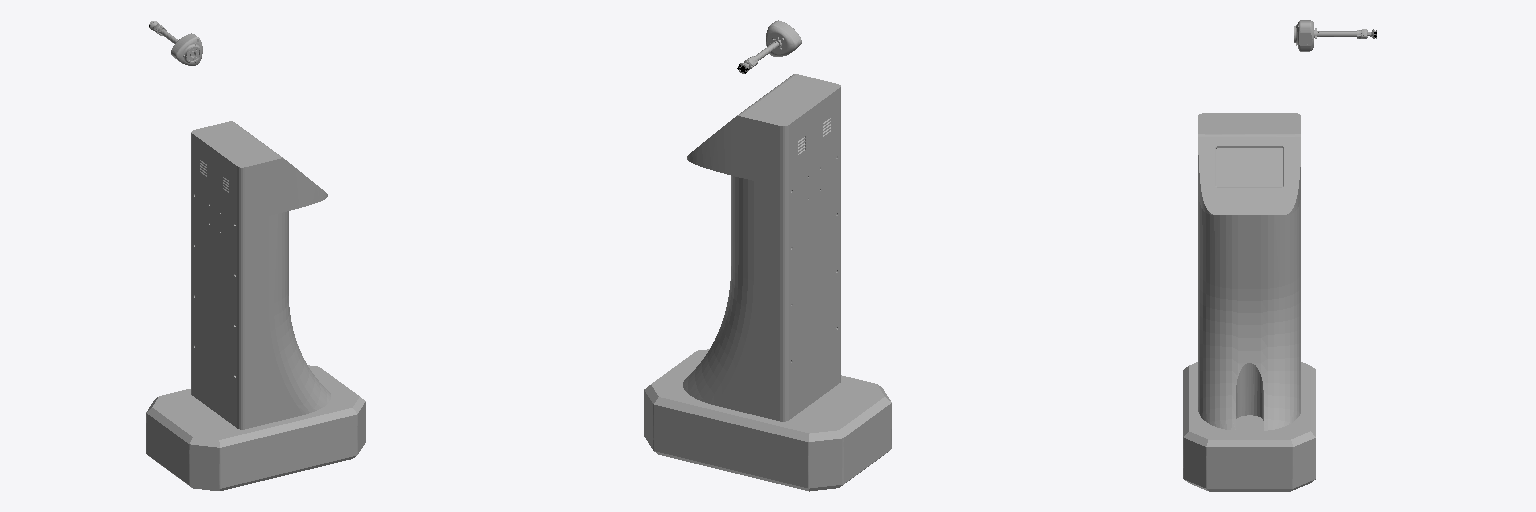
--- What the picture shows (computed from the rendered views, not written in the file) ---
The picture shows the robot from 3 angles, left to right: view 1: azimuth 30°, elevation 25°; view 2: azimuth 150°, elevation 25°; view 3: azimuth 270°, elevation 25°; orthographic projection.
Robot: shobot — 32 links, 31 joints (18 revolute, 13 fixed); root link world; default pose: all joints at 0.
Visible links, largest first — view 1: Top_Body_1, amr_link, gripper_link; view 2: Top_Body_1, amr_link, gripper_link; view 3: Top_Body_1, amr_link, gripper_link.
Boxes of the visible links, x1,y1,x2,y2 form: Top_Body_1: (191, 121, 330, 429); amr_link: (146, 365, 365, 490); gripper_link: (149, 21, 202, 65); Top_Body_1: (683, 74, 840, 421); amr_link: (644, 349, 891, 491); gripper_link: (738, 20, 801, 73); Top_Body_1: (1198, 113, 1300, 430); amr_link: (1183, 362, 1315, 491); gripper_link: (1294, 20, 1376, 51).
Bounding box of the posed robot: 0.9 × 0.8435 × 2.02 m (x, y, z).
Meshes: 15 distinct files referenced, 7 mesh visuals loaded (7 binary STL); not drawn: 8 (reference not matched to a file when rendering).

URDF robot description (shobot):
<?xml version="1.0" ?>
<!-- =================================================================================== -->
<!-- |    This document was autogenerated by xacro from [local-path]/sim_ws/src/urdF_description/urdf/shobot.xacro | -->
<!-- |    EDITING THIS FILE BY HAND IS NOT RECOMMENDED                                 | -->
<!-- =================================================================================== -->
<robot name="shobot">
    <!--
    Base UR robot series xacro macro.

    NOTE: this is NOT a URDF. It cannot directly be loaded by consumers
    expecting a flattened '.urdf' file. See the top-level '.xacro' for that
    (but note: that .xacro must still be processed by the xacro command).

    For use in '.launch' files: use one of the 'load_urX.launch' convenience
    launch files.

    This file models the base kinematic chain of a UR robot, which then gets
    parameterised by various configuration files to convert it into a UR3(e),
    UR5(e), UR10(e) or UR16e.

    NOTE: the default kinematic parameters (ie: link lengths, frame locations,
    offets, etc) do not correspond to any particular robot. They are defaults
    only. There WILL be non-zero offsets between the Forward Kinematics results
    in TF (ie: robot_state_publisher) and the values reported by the Teach
    Pendant.

    For accurate (and robot-specific) transforms, the 'kinematics_parameters_file'
    parameter MUST point to a .yaml file containing the appropriate values for
    the targetted robot.

    If using the UniversalRobots/Universal_Robots_ROS_Driver, follow the steps
    described in the readme of that repository to extract the kinematic
    calibration from the controller and generate the required .yaml file.

    Main author of the migration to yaml configs: Ludovic Delval.

    Contributors to previous versions (in no particular order):

     - Felix Messmer
     - Kelsey Hawkins
     - Wim Meeussen
     - Shaun Edwards
     - Nadia Hammoudeh Garcia
     - Dave Hershberger
     - G. vd. Hoorn
     - Philip Long
     - Dave Coleman
     - Miguel Prada
     - Mathias Luedtke
     - Marcel Schnirring
     - Felix von Drigalski
     - Felix Exner
     - Jimmy Da Silva
     - Ajit Krisshna N L
     - Muhammad Asif Rana
  -->
    <!--
    NOTE: the macro defined in this file is NOT part of the public API of this
          package. Users CANNOT rely on this file being available, or stored in
          this location. Nor can they rely on the existence of the macro.
  -->
    <transmission name="shoulder_pan_trans">
        <type>transmission_interface/SimpleTransmission</type>
        <joint name="shoulder_pan_joint">
            <hardwareInterface>hardware_interface/EffortJointInterface</hardwareInterface>
        </joint>
        <actuator name="shoulder_pan_motor">
            <mechanicalReduction>1</mechanicalReduction>
            <hardwareInterface>hardware_interface/EffortJointInterface</hardwareInterface>
        </actuator>
    </transmission>
    <transmission name="shoulder_lift_trans">
        <type>transmission_interface/SimpleTransmission</type>
        <joint name="shoulder_lift_joint">
            <hardwareInterface>hardware_interface/EffortJointInterface</hardwareInterface>
        </joint>
        <actuator name="shoulder_lift_motor">
            <mechanicalReduction>1</mechanicalReduction>
            <hardwareInterface>hardware_interface/EffortJointInterface</hardwareInterface>
        </actuator>
    </transmission>
    <transmission name="elbow_trans">
        <type>transmission_interface/SimpleTransmission</type>
        <joint name="elbow_joint">
            <hardwareInterface>hardware_interface/EffortJointInterface</hardwareInterface>
        </joint>
        <actuator name="elbow_motor">
            <mechanicalReduction>1</mechanicalReduction>
            <hardwareInterface>hardware_interface/EffortJointInterface</hardwareInterface>
        </actuator>
    </transmission>
    <transmission name="wrist_1_trans">
        <type>transmission_interface/SimpleTransmission</type>
        <joint name="wrist_1_joint">
            <hardwareInterface>hardware_interface/EffortJointInterface</hardwareInterface>
        </joint>
        <actuator name="wrist_1_motor">
            <mechanicalReduction>1</mechanicalReduction>
            <hardwareInterface>hardware_interface/EffortJointInterface</hardwareInterface>
        </actuator>
    </transmission>
    <transmission name="wrist_2_trans">
        <type>transmission_interface/SimpleTransmission</type>
        <joint name="wrist_2_joint">
            <hardwareInterface>hardware_interface/EffortJointInterface</hardwareInterface>
        </joint>
        <actuator name="wrist_2_motor">
            <mechanicalReduction>1</mechanicalReduction>
            <hardwareInterface>hardware_interface/EffortJointInterface</hardwareInterface>
        </actuator>
    </transmission>
    <transmission name="wrist_3_trans">
        <type>transmission_interface/SimpleTransmission</type>
        <joint name="wrist_3_joint">
            <hardwareInterface>hardware_interface/EffortJointInterface</hardwareInterface>
        </joint>
        <actuator name="wrist_3_motor">
            <mechanicalReduction>1</mechanicalReduction>
            <hardwareInterface>hardware_interface/EffortJointInterface</hardwareInterface>
        </actuator>
    </transmission>
    <!-- links: main serial chain -->
    <link name="base_link" />
    <link name="base_link_inertia">
        <visual>
            <origin rpy="0 0 3.141592653589793" xyz="0 0 0" />
            <geometry>
                <mesh filename="package://ur_description/meshes/ur5/visual/base.dae" />
            </geometry>
            <material name="LightGrey">
                <color rgba="0.7 0.7 0.7 1.0" />
            </material>
        </visual>
        <collision>
            <origin rpy="0 0 3.141592653589793" xyz="0 0 0" />
            <geometry>
                <mesh filename="package://ur_description/meshes/ur5/collision/base.stl" />
            </geometry>
        </collision>
        <inertial>
            <mass value="4.0" />
            <origin rpy="0 0 0" xyz="0 0 0" />
            <inertia ixx="0.00443333156" ixy="0.0" ixz="0.0" iyy="0.00443333156" iyz="0.0" izz="0.0072" />
        </inertial>
    </link>
    <link name="shoulder_link">
        <visual>
            <origin rpy="0 0 3.141592653589793" xyz="0 0 0" />
            <geometry>
                <mesh filename="package://ur_description/meshes/ur5/visual/shoulder.dae" />
            </geometry>
            <material name="LightGrey">
                <color rgba="0.7 0.7 0.7 1.0" />
            </material>
        </visual>
        <collision>
            <origin rpy="0 0 3.141592653589793" xyz="0 0 0" />
            <geometry>
                <mesh filename="package://ur_description/meshes/ur5/collision/shoulder.stl" />
            </geometry>
        </collision>
        <inertial>
            <mass value="3.7" />
            <origin rpy="0 0 0" xyz="0 0 0" />
            <inertia ixx="0.014972352344389999" ixy="0.0" ixz="0.0" iyy="0.014972352344389999" iyz="0.0" izz="0.01040625" />
        </inertial>
    </link>
    <link name="upper_arm_link">
        <visual>
            <origin rpy="1.5707963267948966 0 -1.5707963267948966" xyz="0 0 0.13585" />
            <geometry>
                <mesh filename="package://ur_description/meshes/ur5/visual/upperarm.dae" />
            </geometry>
            <material name="LightGrey">
                <color rgba="0.7 0.7 0.7 1.0" />
            </material>
        </visual>
        <collision>
            <origin rpy="1.5707963267948966 0 -1.5707963267948966" xyz="0 0 0.13585" />
            <geometry>
                <mesh filename="package://ur_description/meshes/ur5/collision/upperarm.stl" />
            </geometry>
        </collision>
        <inertial>
            <mass value="8.393" />
            <origin rpy="0 1.5707963267948966 0" xyz="-0.2125 0.0 0.136" />
            <inertia ixx="0.1338857818623325" ixy="0.0" ixz="0.0" iyy="0.1338857818623325" iyz="0.0" izz="0.0151074" />
        </inertial>
    </link>
    <link name="forearm_link">
        <visual>
            <origin rpy="1.5707963267948966 0 -1.5707963267948966" xyz="0 0 0.0165" />
            <geometry>
                <mesh filename="package://ur_description/meshes/ur5/visual/forearm.dae" />
            </geometry>
            <material name="LightGrey">
                <color rgba="0.7 0.7 0.7 1.0" />
            </material>
        </visual>
        <collision>
            <origin rpy="1.5707963267948966 0 -1.5707963267948966" xyz="0 0 0.0165" />
            <geometry>
                <mesh filename="package://ur_description/meshes/ur5/collision/forearm.stl" />
            </geometry>
        </collision>
        <inertial>
            <mass value="2.275" />
            <origin rpy="0 1.5707963267948966 0" xyz="-0.196125 0.0 0.0165" />
            <inertia ixx="0.03121679102890359" ixy="0.0" ixz="0.0" iyy="0.03121679102890359" iyz="0.0" izz="0.004095" />
        </inertial>
    </link>
    <link name="wrist_1_link">
        <visual>
            <!-- TODO: Move this to a parameter -->
            <origin rpy="1.5707963267948966 0 0" xyz="0 0 -0.093" />
            <geometry>
                <mesh filename="package://ur_description/meshes/ur5/visual/wrist1.dae" />
            </geometry>
            <material name="LightGrey">
                <color rgba="0.7 0.7 0.7 1.0" />
            </material>
        </visual>
        <collision>
            <origin rpy="1.5707963267948966 0 0" xyz="0 0 -0.093" />
            <geometry>
                <mesh filename="package://ur_description/meshes/ur5/collision/wrist1.stl" />
            </geometry>
        </collision>
        <inertial>
            <mass value="1.219" />
            <origin rpy="0 0 0" xyz="0 0 0" />
            <inertia ixx="0.0020138887777775" ixy="0.0" ixz="0.0" iyy="0.0020138887777775" iyz="0.0" izz="0.0021942" />
        </inertial>
    </link>
    <link name="wrist_2_link">
        <visual>
            <origin rpy="0 0 0" xyz="0 0 -0.095" />
            <geometry>
                <mesh filename="package://ur_description/meshes/ur5/visual/wrist2.dae" />
            </geometry>
            <material name="LightGrey">
                <color rgba="0.7 0.7 0.7 1.0" />
            </material>
        </visual>
        <collision>
            <origin rpy="0 0 0" xyz="0 0 -0.095" />
            <geometry>
                <mesh filename="package://ur_description/meshes/ur5/collision/wrist2.stl" />
            </geometry>
        </collision>
        <inertial>
            <mass value="1.219" />
            <origin rpy="0 0 0" xyz="0 0 0" />
            <inertia ixx="0.0018310388509175" ixy="0.0" ixz="0.0" iyy="0.0018310388509175" iyz="0.0" izz="0.0021942" />
        </inertial>
    </link>
    <link name="wrist_3_link">
        <visual>
            <origin rpy="1.5707963267948966 0 0" xyz="0 0 -0.0818" />
            <geometry>
                <mesh filename="package://ur_description/meshes/ur5/visual/wrist3.dae" />
            </geometry>
            <material name="LightGrey">
                <color rgba="0.7 0.7 0.7 1.0" />
            </material>
        </visual>
        <collision>
            <origin rpy="1.5707963267948966 0 0" xyz="0 0 -0.0818" />
            <geometry>
                <mesh filename="package://ur_description/meshes/ur5/collision/wrist3.stl" />
            </geometry>
        </collision>
        <inertial>
            <mass value="0.1879" />
            <origin rpy="0 0 0" xyz="0.0 0.0 -0.01525" />
            <inertia ixx="8.062472608343e-05" ixy="0.0" ixz="0.0" iyy="8.062472608343e-05" iyz="0.0" izz="0.0001321171875" />
        </inertial>
    </link>
    <!-- joints: main serial chain -->
    <joint name="base_link-base_link_inertia" type="fixed">
        <parent link="base_link" />
        <child link="base_link_inertia" />
        <!-- 'base_link' is REP-103 aligned (so X+ forward), while the internal
           frames of the robot/controller have X+ pointing backwards.
           Use the joint between 'base_link' and 'base_link_inertia' (a dummy
           link/frame) to introduce the necessary rotation over Z (of pi rad).
      -->
        <origin rpy="0 0 3.141592653589793" xyz="0 0 0" />
    </joint>
    <joint name="shoulder_pan_joint" type="revolute">
        <parent link="base_link_inertia" />
        <child link="shoulder_link" />
        <origin rpy="0 0 0" xyz="0 0 0.089159" />
        <axis xyz="0 0 1" />
        <limit effort="150.0" lower="-6.283185307179586" upper="6.283185307179586" velocity="3.141592653589793" />
        <dynamics damping="0" friction="0" />
    </joint>
    <joint name="shoulder_lift_joint" type="revolute">
        <parent link="shoulder_link" />
        <child link="upper_arm_link" />
        <origin rpy="1.570796327 0 0" xyz="0 0 0" />
        <axis xyz="0 0 1" />
        <limit effort="150.0" lower="-6.283185307179586" upper="6.283185307179586" velocity="3.141592653589793" />
        <dynamics damping="0" friction="0" />
    </joint>
    <joint name="elbow_joint" type="revolute">
        <parent link="upper_arm_link" />
        <child link="forearm_link" />
        <origin rpy="0 0 0" xyz="-0.425 0 0" />
        <axis xyz="0 0 1" />
        <limit effort="150.0" lower="-3.141592653589793" upper="3.141592653589793" velocity="3.141592653589793" />
        <dynamics damping="0" friction="0" />
    </joint>
    <joint name="wrist_1_joint" type="revolute">
        <parent link="forearm_link" />
        <child link="wrist_1_link" />
        <origin rpy="0 0 0" xyz="-0.39225 0 0.10915" />
        <axis xyz="0 0 1" />
        <limit effort="28.0" lower="-6.283185307179586" upper="6.283185307179586" velocity="3.141592653589793" />
        <dynamics damping="0" friction="0" />
    </joint>
    <joint name="wrist_2_joint" type="revolute">
        <parent link="wrist_1_link" />
        <child link="wrist_2_link" />
        <origin rpy="1.570796327 0 0" xyz="0 -0.09465 -1.941303950897609e-11" />
        <axis xyz="0 0 1" />
        <limit effort="28.0" lower="-6.283185307179586" upper="6.283185307179586" velocity="3.141592653589793" />
        <dynamics damping="0" friction="0" />
    </joint>
    <joint name="wrist_3_joint" type="revolute">
        <parent link="wrist_2_link" />
        <child link="wrist_3_link" />
        <origin rpy="1.570796326589793 3.141592653589793 3.141592653589793" xyz="0 0.0823 -1.688001216681175e-11" />
        <axis xyz="0 0 1" />
        <limit effort="28.0" lower="-6.283185307179586" upper="6.283185307179586" velocity="3.141592653589793" />
        <dynamics damping="0" friction="0" />
    </joint>
    <!-- ROS-Industrial 'base' frame: base_link to UR 'Base' Coordinates transform -->
    <link name="base" />
    <joint name="base_link-base_fixed_joint" type="fixed">
        <!-- Note the rotation over Z of pi radians: as base_link is REP-103
           aligned (ie: has X+ forward, Y+ left and Z+ up), this is needed
           to correctly align 'base' with the 'Base' coordinate system of
           the UR controller.
      -->
        <origin rpy="0 0 3.141592653589793" xyz="0 0 0" />
        <parent link="base_link" />
        <child link="base" />
    </joint>
    <!-- ROS-Industrial 'flange' frame: attachment point for EEF models -->
    <link name="flange" />
    <joint name="wrist_3-flange" type="fixed">
        <parent link="wrist_3_link" />
        <child link="flange" />
        <origin rpy="0 -1.5707963267948966 -1.5707963267948966" xyz="0 0 0" />
    </joint>
    <!-- ROS-Industrial 'tool0' frame: all-zeros tool frame -->
    <link name="tool0" />
    <joint name="flange-tool0" type="fixed">
        <!-- default toolframe: X+ left, Y+ up, Z+ front -->
        <origin rpy="1.5707963267948966 0 1.5707963267948966" xyz="0 0 0" />
        <parent link="flange" />
        <child link="tool0" />
    </joint>
    <!-- Configure self collision properties per link -->
    <gazebo reference="shoulder_link">
        <selfCollide>true</selfCollide>
        <plugin name="gazebo_ros_control">
            <robotNamespace>/</robotNamespace>
        </plugin>
    </gazebo>
    <gazebo reference="upper_arm_link">
        <selfCollide>true</selfCollide>
    </gazebo>
    <gazebo reference="forearm_link">
        <selfCollide>true</selfCollide>
    </gazebo>
    <gazebo reference="wrist_1_link">
        <selfCollide>true</selfCollide>
    </gazebo>
    <gazebo reference="wrist_3_link">
        <selfCollide>true</selfCollide>
    </gazebo>
    <gazebo reference="wrist_2_link">
        <selfCollide>true</selfCollide>
    </gazebo>
    <gazebo reference="ee_link">
        <selfCollide>true</selfCollide>
    </gazebo>
    <material name="silver">
        <color rgba="0.700 0.700 0.700 1.000" />
    </material>
    <transmission name="Revolute_1_tran">
        <type>transmission_interface/SimpleTransmission</type>
        <joint name="Revolute_1">
            <hardwareInterface>hardware_interface/EffortJointInterface</hardwareInterface>
        </joint>
        <actuator name="Revolute_1_actr">
            <hardwareInterface>hardware_interface/EffortJointInterface</hardwareInterface>
            <mechanicalReduction>1</mechanicalReduction>
        </actuator>
    </transmission>
    <transmission name="Revolute_2_tran">
        <type>transmission_interface/SimpleTransmission</type>
        <joint name="Revolute_2">
            <hardwareInterface>hardware_interface/EffortJointInterface</hardwareInterface>
        </joint>
        <actuator name="Revolute_2_actr">
            <hardwareInterface>hardware_interface/EffortJointInterface</hardwareInterface>
            <mechanicalReduction>1</mechanicalReduction>
        </actuator>
    </transmission>
    <transmission name="Revolute_3_tran">
        <type>transmission_interface/SimpleTransmission</type>
        <joint name="Revolute_3">
            <hardwareInterface>hardware_interface/EffortJointInterface</hardwareInterface>
        </joint>
        <actuator name="Revolute_3_actr">
            <hardwareInterface>hardware_interface/EffortJointInterface</hardwareInterface>
            <mechanicalReduction>1</mechanicalReduction>
        </actuator>
    </transmission>
    <transmission name="Revolute_4_tran">
        <type>transmission_interface/SimpleTransmission</type>
        <joint name="Revolute_4">
            <hardwareInterface>hardware_interface/EffortJointInterface</hardwareInterface>
        </joint>
        <actuator name="Revolute_4_actr">
            <hardwareInterface>hardware_interface/EffortJointInterface</hardwareInterface>
            <mechanicalReduction>1</mechanicalReduction>
        </actuator>
    </transmission>
    <gazebo>
        <plugin filename="libgazebo_ros_control.so" name="control" />
    </gazebo>
    <gazebo reference="amr_link">
        <material>Gazebo/Silver</material>
        <mu1>0.2</mu1>
        <mu2>0.2</mu2>
        <selfCollide>true</selfCollide>
        <gravity>true</gravity>
    </gazebo>
    <gazebo reference="L_WHEEL_F_1">
        <material>Gazebo/Silver</material>
        <mu1>0.2</mu1>
        <mu2>0.2</mu2>
        <selfCollide>true</selfCollide>
    </gazebo>
    <gazebo reference="L_WHEEL_B_1">
        <material>Gazebo/Silver</material>
        <mu1>0.2</mu1>
        <mu2>0.2</mu2>
        <selfCollide>true</selfCollide>
    </gazebo>
    <gazebo reference="R_WHEEL_B_1">
        <material>Gazebo/Silver</material>
        <mu1>0.2</mu1>
        <mu2>0.2</mu2>
        <selfCollide>true</selfCollide>
    </gazebo>
    <gazebo reference="R_WHEEL_F_1">
        <material>Gazebo/Silver</material>
        <mu1>0.2</mu1>
        <mu2>0.2</mu2>
        <selfCollide>true</selfCollide>
    </gazebo>
    <gazebo reference="Top_Body_1">
        <material>Gazebo/Silver</material>
        <mu1>0.2</mu1>
        <mu2>0.2</mu2>
        <selfCollide>true</selfCollide>
    </gazebo>
    <material name="white">
        <color rgba="1.000 1.000 1.000 1.000" />
    </material>
    <gazebo>
        <plugin filename="libgazebo_ros_vacuum_gripper.so" name="gazebo_ros_vacuum_gripper">
            <robotNamespace>/urdF/vacuum_gripper</robotNamespace>
            <bodyName>vacuum_gripper</bodyName>
            <topicName>grasping</topicName>
            <maxForce>50</maxForce>
            <maxDistance>0.05</maxDistance>
            <minDistance>0.01</minDistance>
        </plugin>
    </gazebo>
    <gazebo>
        <plugin filename="libgazebo_ros_vacuum_gripper.so" name="gazebo_ros_vacuum_gripper1">
            <robotNamespace>/urdF/vacuum_gripper1</robotNamespace>
            <bodyName>vacuum_gripper1</bodyName>
            <topicName>grasping1</topicName>
            <maxForce>50</maxForce>
            <maxDistance>0.05</maxDistance>
            <minDistance>0.01</minDistance>
        </plugin>
    </gazebo>
    <gazebo>
        <plugin filename="libgazebo_ros_vacuum_gripper.so" name="gazebo_ros_vacuum_gripper2">
            <robotNamespace>/urdF/vacuum_gripper2</robotNamespace>
            <bodyName>vacuum_gripper2</bodyName>
            <topicName>grasping1</topicName>
            <maxForce>50</maxForce>
            <maxDistance>0.05</maxDistance>
            <minDistance>0.01</minDistance>
        </plugin>
    </gazebo>
    <gazebo>
        <plugin filename="libgazebo_ros_vacuum_gripper.so" name="gazebo_ros_vacuum_gripper3">
            <robotNamespace>/urdF/vacuum_gripper3</robotNamespace>
            <bodyName>vacuum_gripper3</bodyName>
            <topicName>grasping1</topicName>
            <maxForce>50</maxForce>
            <maxDistance>0.05</maxDistance>
            <minDistance>0.01</minDistance>
        </plugin>
    </gazebo>
    <gazebo>
        <plugin filename="libgazebo_ros_vacuum_gripper.so" name="gazebo_ros_vacuum_gripper4">
            <robotNamespace>/urdF/vacuum_gripper4</robotNamespace>
            <bodyName>vacuum_gripper4</bodyName>
            <topicName>grasping1</topicName>
            <maxForce>50</maxForce>
            <maxDistance>0.05</maxDistance>
            <minDistance>0.01</minDistance>
        </plugin>
    </gazebo>
    <gazebo>
        <plugin filename="libgazebo_ros_vacuum_gripper.so" name="gazebo_ros_vacuum_gripper5">
            <robotNamespace>/urdF/vacuum_gripper5</robotNamespace>
            <bodyName>vacuum_gripper5</bodyName>
            <topicName>grasping1</topicName>
            <maxForce>50</maxForce>
            <maxDistance>0.05</maxDistance>
            <minDistance>0.01</minDistance>
        </plugin>
    </gazebo>
    <gazebo>
        <plugin filename="libgazebo_ros_vacuum_gripper.so" name="gazebo_ros_vacuum_gripper6">
            <robotNamespace>/urdF/vacuum_gripper6</robotNamespace>
            <bodyName>vacuum_gripper6</bodyName>
            <topicName>grasping1</topicName>
            <maxForce>50</maxForce>
            <maxDistance>0.05</maxDistance>
            <minDistance>0.01</minDistance>
        </plugin>
    </gazebo>
    <gazebo>
        <plugin filename="libgazebo_ros_vacuum_gripper.so" name="gazebo_ros_vacuum_gripper7">
            <robotNamespace>/urdF/vacuum_gripper7</robotNamespace>
            <bodyName>vacuum_gripper7</bodyName>
            <topicName>grasping1</topicName>
            <maxForce>50</maxForce>
            <maxDistance>0.05</maxDistance>
            <minDistance>0.01</minDistance>
        </plugin>
    </gazebo>
    <link name="gripper_link">
        <inertial>
            <origin rpy="0 0 0" xyz="-0.0009694091187008012 -0.06077237045730904 0.06399399522278051" />
            <mass value="8.457717281604213" />
            <inertia ixx="0.047172" ixy="8e-05" ixz="-0.000141" iyy="0.016022" iyz="-9.3e-05" izz="0.047169" />
        </inertial>
        <visual>
            <origin rpy="0 0 0" xyz="0 0 0" />
            <geometry>
                <mesh filename="package://Vaccume_description/meshes/base_link.stl" scale="0.001 0.001 0.001" />
            </geometry>
            <material name="silver" />
        </visual>
        <collision>
            <origin rpy="0 0 0" xyz="0 0 0" />
            <geometry>
                <mesh filename="package://Vaccume_description/meshes/base_link.stl" scale="0.001 0.001 0.001" />
            </geometry>
        </collision>
    </link>
    <link name="vacuum_gripper">
        <gravity>0</gravity>
        <visual>
            <origin rpy="0 0 0" xyz="0 0 0" />
            <geometry>
                <cylinder length="0.01" radius="0.005" />
            </geometry>
            <material name="transparent">
                <color rgba="0 0 0 0" />
            </material>
        </visual>
        <collision>
            <origin rpy="0 0 0" xyz="0 0 0" />
            <geometry>
                <cylinder length="0.01" radius="0.005" />
            </geometry>
            <material name="transparent">
                <color rgba="0 0 0 0" />
            </material>
        </collision>
        <inertial>
            <origin rpy="0 0 0" xyz="0.000000 0.000000 0.000000" />
            <mass value="0.0001" />
            <inertia ixx="1e-08" ixy="0" ixz="0" iyy="1e-08" iyz="0" izz="1e-08" />
        </inertial>
    </link>
    <joint name="gripper_joint" type="revolute">
        <axis xyz="1 0 0" />
        <parent link="gripper_link" />
        <child link="vacuum_gripper" />
        <origin rpy="0 1.57 1.57" xyz="0 -0.347 0.047" />
        <limit effort="60" lower="0" upper="0" velocity="50" />
        <dynamics damping="0.0" friction="10" />
    </joint>
    <link name="vacuum_gripper1">
        <gravity>0</gravity>
        <visual>
            <origin rpy="0 0 0" xyz="0 0 0" />
            <geometry>
                <cylinder length="0.01" radius="0.005" />
            </geometry>
            <material name="transparent">
                <color rgba="0 0 0 0" />
            </material>
        </visual>
        <collision>
            <origin rpy="0 0 0" xyz="0 0 0" />
            <geometry>
                <cylinder length="0.01" radius="0.005" />
            </geometry>
            <material name="transparent">
                <color rgba="0 0 0 0" />
            </material>
        </collision>
        <inertial>
            <origin rpy="0 0 0" xyz="0.000000 0.000000 0.000000" />
            <mass value="0.0001" />
            <inertia ixx="1e-08" ixy="0" ixz="0" iyy="1e-08" iyz="0" izz="1e-08" />
        </inertial>
    </link>
    <joint name="gripper_joint1" type="revolute">
        <axis xyz="1 0 0" />
        <parent link="gripper_link" />
        <child link="vacuum_gripper1" />
        <origin rpy="0 1.57 1.57" xyz="0.0 -0.347 0.08" />
        <limit effort="60" lower="0" upper="0" velocity="50" />
        <dynamics damping="0.0" friction="10" />
    </joint>
    <link name="vacuum_gripper2">
        <gravity>0</gravity>
        <visual>
            <origin rpy="0 0 0" xyz="0 0 0" />
            <geometry>
                <cylinder length="0.01" radius="0.005" />
            </geometry>
            <material name="transparent">
                <color rgba="0 0 0 0" />
            </material>
        </visual>
        <collision>
            <origin rpy="0 0 0" xyz="0 0 0" />
            <geometry>
                <cylinder length="0.01" radius="0.005" />
            </geometry>
            <material name="transparent">
                <color rgba="0 0 0 0" />
            </material>
        </collision>
        <inertial>
            <origin rpy="0 0 0" xyz="0.000000 0.000000 0.000000" />
            <mass value="0.0001" />
            <inertia ixx="1e-08" ixy="0" ixz="0" iyy="1e-08" iyz="0" izz="1e-08" />
        </inertial>
    </link>
    <joint name="gripper_joint2" type="revolute">
        <axis xyz="1 0 0" />
        <parent link="gripper_link" />
        <child link="vacuum_gripper2" />
        <origin rpy="0 1.57 1.57" xyz="0.013 -0.347 0.052" />
        <limit effort="60" lower="0" upper="0" velocity="50" />
        <dynamics damping="0.0" friction="10" />
    </joint>
    <link name="vacuum_gripper3">
        <gravity>0</gravity>
        <visual>
            <origin rpy="0 0 0" xyz="0 0 0" />
            <geometry>
                <cylinder length="0.01" radius="0.005" />
            </geometry>
            <material name="transparent">
                <color rgba="0 0 0 0" />
            </material>
        </visual>
        <collision>
            <origin rpy="0 0 0" xyz="0 0 0" />
            <geometry>
                <cylinder length="0.01" radius="0.005" />
            </geometry>
            <material name="transparent">
                <color rgba="0 0 0 0" />
            </material>
        </collision>
        <inertial>
            <origin rpy="0 0 0" xyz="0.000000 0.000000 0.000000" />
            <mass value="0.0001" />
            <inertia ixx="1e-08" ixy="0" ixz="0" iyy="1e-08" iyz="0" izz="1e-08" />
        </inertial>
    </link>
    <joint name="gripper_joint3" type="revolute">
        <axis xyz="1 0 0" />
        <parent link="gripper_link" />
        <child link="vacuum_gripper3" />
        <origin rpy="0 1.57 1.57" xyz="-0.013 -0.347 0.075" />
        <limit effort="60" lower="0" upper="0" velocity="50" />
        <dynamics damping="0.0" friction="10" />
    </joint>
    <link name="vacuum_gripper4">
        <gravity>0</gravity>
        <visual>
            <origin rpy="0 0 0" xyz="0 0 0" />
            <geometry>
                <cylinder length="0.01" radius="0.005" />
            </geometry>
            <material name="transparent">
                <color rgba="0 0 0 0" />
            </material>
        </visual>
        <collision>
            <origin rpy="0 0 0" xyz="0 0 0" />
            <geometry>
                <cylinder length="0.01" radius="0.005" />
            </geometry>
            <material name="transparent">
                <color rgba="0 0 0 0" />
            </material>
        </collision>
        <inertial>
            <origin rpy="0 0 0" xyz="0.000000 0.000000 0.000000" />
            <mass value="0.0001" />
            <inertia ixx="1e-08" ixy="0" ixz="0" iyy="1e-08" iyz="0" izz="1e-08" />
        </inertial>
    </link>
    <joint name="gripper_joint4" type="revolute">
        <axis xyz="1 0 0" />
        <parent link="gripper_link" />
        <child link="vacuum_gripper4" />
        <origin rpy="0 1.57 1.57" xyz="0.005 -0.347 0.06" />
        <limit effort="60" lower="0" upper="0" velocity="50" />
        <dynamics damping="0.0" friction="10" />
    </joint>
    <link name="vacuum_gripper5">
        <gravity>0</gravity>
        <visual>
            <origin rpy="0 0 0" xyz="0 0 0" />
            <geometry>
                <cylinder length="0.01" radius="0.005" />
            </geometry>
            <material name="transparent">
                <color rgba="0 0 0 0" />
            </material>
        </visual>
        <collision>
            <origin rpy="0 0 0" xyz="0 0 0" />
            <geometry>
                <cylinder length="0.01" radius="0.005" />
            </geometry>
            <material name="transparent">
                <color rgba="0 0 0 0" />
            </material>
        </collision>
        <inertial>
            <origin rpy="0 0 0" xyz="0.000000 0.000000 0.000000" />
            <mass value="0.0001" />
            <inertia ixx="1e-08" ixy="0" ixz="0" iyy="1e-08" iyz="0" izz="1e-08" />
        </inertial>
    </link>
    <joint name="gripper_joint5" type="revolute">
        <axis xyz="1 0 0" />
        <parent link="gripper_link" />
        <child link="vacuum_gripper5" />
        <origin rpy="0 1.57 1.57" xyz="-0.005 -0.347 0.06" />
        <limit effort="60" lower="0" upper="0" velocity="50" />
        <dynamics damping="0.0" friction="10" />
    </joint>
    <link name="vacuum_gripper6">
        <gravity>0</gravity>
        <visual>
            <origin rpy="0 0 0" xyz="0 0 0" />
            <geometry>
                <cylinder length="0.01" radius="0.005" />
            </geometry>
            <material name="transparent">
                <color rgba="0 0 0 0" />
            </material>
        </visual>
        <collision>
            <origin rpy="0 0 0" xyz="0 0 0" />
            <geometry>
                <cylinder length="0.01" radius="0.005" />
            </geometry>
            <material name="transparent">
                <color rgba="0 0 0 0" />
            </material>
        </collision>
        <inertial>
            <origin rpy="0 0 0" xyz="0.000000 0.000000 0.000000" />
            <mass value="0.0001" />
            <inertia ixx="1e-08" ixy="0" ixz="0" iyy="1e-08" iyz="0" izz="1e-08" />
        </inertial>
    </link>
    <joint name="gripper_joint6" type="revolute">
        <axis xyz="1 0 0" />
        <parent link="gripper_link" />
        <child link="vacuum_gripper6" />
        <origin rpy="0 1.57 1.57" xyz="0.007 -0.347 0.07" />
        <limit effort="60" lower="0" upper="0" velocity="50" />
        <dynamics damping="0.0" friction="10" />
    </joint>
    <link name="vacuum_gripper7">
        <gravity>0</gravity>
        <visual>
            <origin rpy="0 0 0" xyz="0 0 0" />
            <geometry>
                <cylinder length="0.01" radius="0.005" />
            </geometry>
            <material name="transparent">
                <color rgba="0 0 0 0" />
            </material>
        </visual>
        <collision>
            <origin rpy="0 0 0" xyz="0 0 0" />
            <geometry>
                <cylinder length="0.01" radius="0.005" />
            </geometry>
            <material name="transparent">
                <color rgba="0 0 0 0" />
            </material>
        </collision>
        <inertial>
            <origin rpy="0 0 0" xyz="0.000000 0.000000 0.000000" />
            <mass value="0.0001" />
            <inertia ixx="1e-08" ixy="0" ixz="0" iyy="1e-08" iyz="0" izz="1e-08" />
        </inertial>
    </link>
    <joint name="gripper_joint7" type="revolute">
        <axis xyz="1 0 0" />
        <parent link="gripper_link" />
        <child link="vacuum_gripper7" />
        <origin rpy="0 1.57 1.57" xyz="-0.007 -0.347 0.07" />
        <limit effort="60" lower="0" upper="0" velocity="50" />
        <dynamics damping="0.0" friction="10" />
    </joint>
    <link name="amr_link">
        <inertial>
            <origin rpy="0 0 0" xyz="7.980285628189428e-17 -3.990142814094714e-17 0.12803630068802982" />
            <mass value="916.117862361551" />
            <inertia ixx="29.080883" ixy="-0.0" ixz="0.0" iyy="62.895145" iyz="0.0" izz="82.576037" />
        </inertial>
        <visual>
            <origin rpy="0 0 0" xyz="0 0 0" />
            <geometry>
                <mesh filename="package://urdF_description/meshes/base_link.stl" scale="0.001 0.001 0.001" />
            </geometry>
            <material name="silver" />
        </visual>
        <collision>
            <origin rpy="0 0 0" xyz="0 0 0" />
            <geometry>
                <mesh filename="package://urdF_description/meshes/base_link.stl" scale="0.001 0.001 0.001" />
            </geometry>
        </collision>
    </link>
    <link name="L_WHEEL_F_1">
        <inertial>
            <origin rpy="0 0 0" xyz="1.27675647831893e-14 0.0 4.85722573273506e-17" />
            <mass value="5.05336007222817" />
            <inertia ixx="0.010871" ixy="0.0" ixz="0.0" iyy="0.021215" iyz="0.0" izz="0.010871" />
        </inertial>
        <visual>
            <origin rpy="0 0 0" xyz="-0.2125 -0.1325 -0.05" />
            <geometry>
                <mesh filename="package://urdF_description/meshes/L_WHEEL_F_1.stl" scale="0.001 0.001 0.001" />
            </geometry>
            <material name="silver" />
        </visual>
        <collision>
            <origin rpy="0 0 0" xyz="-0.2125 -0.1325 -0.05" />
            <geometry>
                <mesh filename="package://urdF_description/meshes/L_WHEEL_F_1.stl" scale="0.001 0.001 0.001" />
            </geometry>
        </collision>
    </link>
    <link name="L_WHEEL_B_1">
        <inertial>
            <origin rpy="0 0 0" xyz="1.2878587085651816e-14 0.0 1.1102230246251565e-16" />
            <mass value="5.05336007222817" />
            <inertia ixx="0.010871" ixy="-0.0" ixz="0.0" iyy="0.021215" iyz="0.0" izz="0.010871" />
        </inertial>
        <visual>
            <origin rpy="0 0 0" xyz="0.2125 -0.1325 -0.05" />
            <geometry>
                <mesh filename="package://urdF_description/meshes/L_WHEEL_B_1.stl" scale="0.001 0.001 0.001" />
            </geometry>
            <material name="silver" />
        </visual>
        <collision>
            <origin rpy="0 0 0" xyz="0.2125 -0.1325 -0.05" />
            <geometry>
                <mesh filename="package://urdF_description/meshes/L_WHEEL_B_1.stl" scale="0.001 0.001 0.001" />
            </geometry>
        </collision>
    </link>
    <link name="R_WHEEL_B_1">
        <inertial>
            <origin rpy="0 0 0" xyz="1.2823075934420558e-14 0.0 4.85722573273506e-17" />
            <mass value="5.05336007222817" />
            <inertia ixx="0.010871" ixy="0.0" ixz="0.0" iyy="0.021215" iyz="0.0" izz="0.010871" />
        </inertial>
        <visual>
            <origin rpy="0 0 0" xyz="0.2125 0.1325 -0.05" />
            <geometry>
                <mesh filename="package://urdF_description/meshes/R_WHEEL_B_1.stl" scale="0.001 0.001 0.001" />
            </geometry>
            <material name="silver" />
        </visual>
        <collision>
            <origin rpy="0 0 0" xyz="0.2125 0.1325 -0.05" />
            <geometry>
                <mesh filename="package://urdF_description/meshes/R_WHEEL_B_1.stl" scale="0.001 0.001 0.001" />
            </geometry>
        </collision>
    </link>
    <link name="R_WHEEL_F_1">
        <inertial>
            <origin rpy="0 0 0" xyz="0.0 0.0 1.2760625889285393e-14" />
            <mass value="5.05336007222817" />
            <inertia ixx="0.010871" ixy="0.0" ixz="0.0" iyy="0.021215" iyz="0.0" izz="0.010871" />
        </inertial>
        <visual>
            <origin rpy="0 0 0" xyz="-0.2125 0.1325 -0.05" />
            <geometry>
                <mesh filename="package://urdF_description/meshes/R_WHEEL_F_1.stl" scale="0.001 0.001 0.001" />
            </geometry>
            <material name="silver" />
        </visual>
        <collision>
            <origin rpy="0 0 0" xyz="-0.2125 0.1325 -0.05" />
            <geometry>
                <mesh filename="package://urdF_description/meshes/R_WHEEL_F_1.stl" scale="0.001 0.001 0.001" />
            </geometry>
        </collision>
    </link>
    <link name="Top_Body_1">
        <inertial>
            <origin rpy="0 0 0" xyz="-0.04261578492205568 -1.7700002588756798e-05 0.6563727706924719" />
            <mass value="363.27166737535043" />
            <inertia ixx="64.249865" ixy="0.001518" ixz="1.62817" iyy="62.201154" iyz="0.002613" izz="16.245371" />
        </inertial>
        <visual>
            <origin rpy="0 0 0" xyz="-0.0 0.0 -0.25" />
            <geometry>
                <mesh filename="package://urdF_description/meshes/Top_Body_1.stl" scale="0.001 0.001 0.001" />
            </geometry>
            <material name="silver" />
        </visual>
        <collision>
            <origin rpy="0 0 0" xyz="-0.0 0.0 -0.25" />
            <geometry>
                <mesh filename="package://urdF_description/meshes/Top_Body_1.stl" scale="0.001 0.001 0.001" />
            </geometry>
        </collision>
    </link>
    <joint name="Revolute_1" type="revolute">
        <origin rpy="0 0 0" xyz="0.2125 0.1325 0.05" />
        <parent link="amr_link" />
        <child link="L_WHEEL_F_1" />
        <axis xyz="0.0 1.0 0.0" />
        <limit effort="10" lower="-3.14159" upper="3.14159" velocity="1" />
        <dynamics damping="0" friction="0" />
    </joint>
    <joint name="Revolute_2" type="revolute">
        <origin rpy="0 0 0" xyz="-0.2125 0.1325 0.05" />
        <parent link="amr_link" />
        <child link="L_WHEEL_B_1" />
        <axis xyz="0.0 1.0 0.0" />
        <limit effort="10" lower="-3.14159" upper="3.14159" velocity="1" />
        <dynamics damping="0" friction="0" />
    </joint>
    <joint name="Revolute_3" type="revolute">
        <origin rpy="0 0 0" xyz="-0.2125 -0.1325 0.05" />
        <parent link="amr_link" />
        <child link="R_WHEEL_B_1" />
        <axis xyz="0.0 1.0 0.0" />
        <limit effort="10" lower="-3.14159" upper="3.14159" velocity="1" />
        <dynamics damping="0" friction="0" />
    </joint>
    <joint name="Revolute_4" type="revolute">
        <origin rpy="0 0 0" xyz="0.2125 -0.1325 0.05" />
        <parent link="amr_link" />
        <child link="R_WHEEL_F_1" />
        <axis xyz="0.0 1.0 0.0" />
        <limit effort="10" lower="-3.14159" upper="3.14159" velocity="1" />
        <dynamics damping="0" friction="0" />
    </joint>
    <joint name="Rigid_6" type="fixed">
        <origin rpy="0 0 0" xyz="0.0 0.0 0.25" />
        <parent link="amr_link" />
        <child link="Top_Body_1" />
    </joint>
    <joint name="UR5_joint" type="fixed">
        <origin rpy="0 -1.57 0" xyz="-0.21 0.0 0.84" />
        <parent link="Top_Body_1" />
        <child link="base_link" />
    </joint>
    <link name="world" />
    <joint name="world_to_amr" type="fixed">
        <parent link="world" />
        <child link="amr_link" />
        <origin rpy="0 0 0" xyz="0 0 0" />
    </joint>
    <joint name="coupler_joint" type="fixed">
        <parent link="tool0" />
        <child link="gripper_link" />
        <origin rpy="-1.57 0 -0.78" xyz="-0.045 -0.045 0.01" />
    </joint>
    <!-- xacro:include filename="$(find common_sensors)/urdf/sensors/kinect_properties.urdf.xacro"/ -->
    <gazebo reference="camera_depth_frame">
        <sensor name="camera1" type="depth">
            <always_on>true</always_on>
            <update_rate>20.0</update_rate>
            <camera>
                <horizontal_fov>1.0471975511965976</horizontal_fov>
                <image>
                    <format>R8G8B8</format>
                    <width>640</width>
                    <height>480</height>
                </image>
                <clip>
                    <near>0.05</near>
                    <far>8.0</far>
                </clip>
            </camera>
            <plugin filename="libgazebo_ros_openni_kinect.so" name="camera_depth_frame_kinect_controller">
                <baseline>0.1</baseline>
                <alwaysOn>true</alwaysOn>
                <updateRate>10</updateRate>
                <cameraName>camera1</cameraName>
                <imageTopicName>rgb/image_raw</imageTopicName>
                <cameraInfoTopicName>rgb/camera_info</cameraInfoTopicName>
                <depthImageTopicName>depth/image_raw</depthImageTopicName>
                <depthImageCameraInfoTopicName>depth/camera_info</depthImageCameraInfoTopicName>
                <pointCloudTopicName>depth/points</pointCloudTopicName>
                <frameName>camera_depth_optical_frame</frameName>
                <pointCloudCutoff>0.3</pointCloudCutoff>
                <distortion_k1>0.0</distortion_k1>
                <distortion_k2>0.0</distortion_k2>
                <distortion_k3>0.0</distortion_k3>
                <distortion_t1>0.0</distortion_t1>
                <distortion_t2>0.0</distortion_t2>
                <!--
          <CxPrime>0</CxPrime>
          <Cx>0</Cx>
          <Cy>0</Cy>
          <focalLength>0</focalLength>
          <hackBaseline>0</hackBaseline>
      -->
            </plugin>
        </sensor>
    </gazebo>
    <joint name="camera_rgb_joint" type="fixed">
        <origin rpy="0 0.175 1.57" xyz="-0.09 0.29 1.4" />
        <parent link="world" />
        <child link="camera_rgb_frame" />
    </joint>
    <link name="camera_rgb_frame">
        <inertial>
            <mass value="0.001" />
            <origin xyz="0 0 0" />
            <inertia ixx="0.0001" ixy="0.0" ixz="0.0" iyy="0.0001" iyz="0.0" izz="0.0001" />
        </inertial>
    </link>
    <joint name="camera_rgb_optical_joint" type="fixed">
        <origin rpy="-1.5707963267948966 0 -1.5707963267948966" xyz="0 0 0" />
        <parent link="camera_rgb_frame" />
        <child link="camera_rgb_optical_frame" />
    </joint>
    <link name="camera_rgb_optical_frame">
        <inertial>
            <mass value="0.001" />
            <origin xyz="0 0 0" />
            <inertia ixx="0.0001" ixy="0.0" ixz="0.0" iyy="0.0001" iyz="0.0" izz="0.0001" />
        </inertial>
    </link>
    <joint name="camera_joint" type="fixed">
        <origin rpy="0 0 0" xyz="-0.031 0.0 -0.016" />
        <parent link="camera_rgb_frame" />
        <child link="camera_link" />
    </joint>
    <link name="camera_link">
        <visual>
            <origin rpy="0 0 1.5707963267948966" xyz="0 0 0" />
            <geometry>
                <mesh filename="package://common_sensors/meshes/sensors/kinect.dae" />
            </geometry>
        </visual>
        <collision>
            <origin rpy="0 0 0" xyz="0.0 0.0 0.0" />
            <geometry>
                <box size="0.07271 0.27794 0.073" />
            </geometry>
        </collision>
        <inertial>
            <mass value="0.001" />
            <origin xyz="0 0 0" rpy="0 0 0" />
            <inertia ixx="0.0001" ixy="0.0" ixz="0.0" iyy="0.0001" iyz="0.0" izz="0.0001" />
        </inertial>
    </link>
    <!-- The fixed joints & links below are usually published by static_transformers launched by the OpenNi launch 
		 files. However, for Gazebo simulation we need them, so we add them here.
		 (Hence, don't publish them additionally!) -->
    <joint name="camera_depth_joint" type="fixed">
        <origin rpy="0 0 0" xyz="0 0 0" />
        <parent link="camera_rgb_frame" />
        <child link="camera_depth_frame" />
    </joint>
    <link name="camera_depth_frame">
        <inertial>
            <mass value="0.001" />
            <origin xyz="0 0 0" />
            <inertia ixx="0.0001" ixy="0.0" ixz="0.0" iyy="0.0001" iyz="0.0" izz="0.0001" />
        </inertial>
    </link>
    <joint name="camera_depth_optical_joint" type="fixed">
        <origin rpy="-1.5707963267948966 0 -1.5707963267948966" xyz="0 0 0" />
        <parent link="camera_depth_frame" />
        <child link="camera_depth_optical_frame" />
    </joint>
    <link name="camera_depth_optical_frame">
        <inertial>
            <mass value="0.001" />
            <origin xyz="0 0 0" />
            <inertia ixx="0.0001" ixy="0.0" ixz="0.0" iyy="0.0001" iyz="0.0" izz="0.0001" />
        </inertial>
    </link>
    <transmission name="trans_gripper_joint">
        <type>transmission_interface/SimpleTransmission</type>
        <joint name="gripper_joint">
            <hardwareInterface>hardware_interface/EffortJointInterface</hardwareInterface>
        </joint>
        <actuator name="gripper_joint_motor">
            <hardwareInterface>hardware_interface/EffortJointInterface</hardwareInterface>
            <mechanicalReduction>1</mechanicalReduction>
        </actuator>
    </transmission>
    <transmission name="trans_gripper_joint1">
        <type>transmission_interface/SimpleTransmission</type>
        <joint name="gripper_joint1">
            <hardwareInterface>hardware_interface/EffortJointInterface</hardwareInterface>
        </joint>
        <actuator name="gripper_joint1_motor">
            <hardwareInterface>hardware_interface/EffortJointInterface</hardwareInterface>
            <mechanicalReduction>1</mechanicalReduction>
        </actuator>
    </transmission>
    <transmission name="trans_gripper_joint2">
        <type>transmission_interface/SimpleTransmission</type>
        <joint name="gripper_joint2">
            <hardwareInterface>hardware_interface/EffortJointInterface</hardwareInterface>
        </joint>
        <actuator name="gripper_joint2_motor">
            <hardwareInterface>hardware_interface/EffortJointInterface</hardwareInterface>
            <mechanicalReduction>1</mechanicalReduction>
        </actuator>
    </transmission>
    <transmission name="trans_gripper_joint3">
        <type>transmission_interface/SimpleTransmission</type>
        <joint name="gripper_joint3">
            <hardwareInterface>hardware_interface/EffortJointInterface</hardwareInterface>
        </joint>
        <actuator name="gripper_joint3_motor">
            <hardwareInterface>hardware_interface/EffortJointInterface</hardwareInterface>
            <mechanicalReduction>1</mechanicalReduction>
        </actuator>
    </transmission>
    <transmission name="trans_gripper_joint4">
        <type>transmission_interface/SimpleTransmission</type>
        <joint name="gripper_joint4">
            <hardwareInterface>hardware_interface/EffortJointInterface</hardwareInterface>
        </joint>
        <actuator name="gripper_joint4_motor">
            <hardwareInterface>hardware_interface/EffortJointInterface</hardwareInterface>
            <mechanicalReduction>1</mechanicalReduction>
        </actuator>
    </transmission>
    <transmission name="trans_gripper_joint5">
        <type>transmission_interface/SimpleTransmission</type>
        <joint name="gripper_joint5">
            <hardwareInterface>hardware_interface/EffortJointInterface</hardwareInterface>
        </joint>
        <actuator name="gripper_joint5_motor">
            <hardwareInterface>hardware_interface/EffortJointInterface</hardwareInterface>
            <mechanicalReduction>1</mechanicalReduction>
        </actuator>
    </transmission>
    <transmission name="trans_gripper_joint6">
        <type>transmission_interface/SimpleTransmission</type>
        <joint name="gripper_joint6">
            <hardwareInterface>hardware_interface/EffortJointInterface</hardwareInterface>
        </joint>
        <actuator name="gripper_joint6_motor">
            <hardwareInterface>hardware_interface/EffortJointInterface</hardwareInterface>
            <mechanicalReduction>1</mechanicalReduction>
        </actuator>
    </transmission>
    <transmission name="trans_gripper_joint7">
        <type>transmission_interface/SimpleTransmission</type>
        <joint name="gripper_joint7">
            <hardwareInterface>hardware_interface/EffortJointInterface</hardwareInterface>
        </joint>
        <actuator name="gripper_joint7_motor">
            <hardwareInterface>hardware_interface/EffortJointInterface</hardwareInterface>
            <mechanicalReduction>1</mechanicalReduction>
        </actuator>
    </transmission>
</robot>
